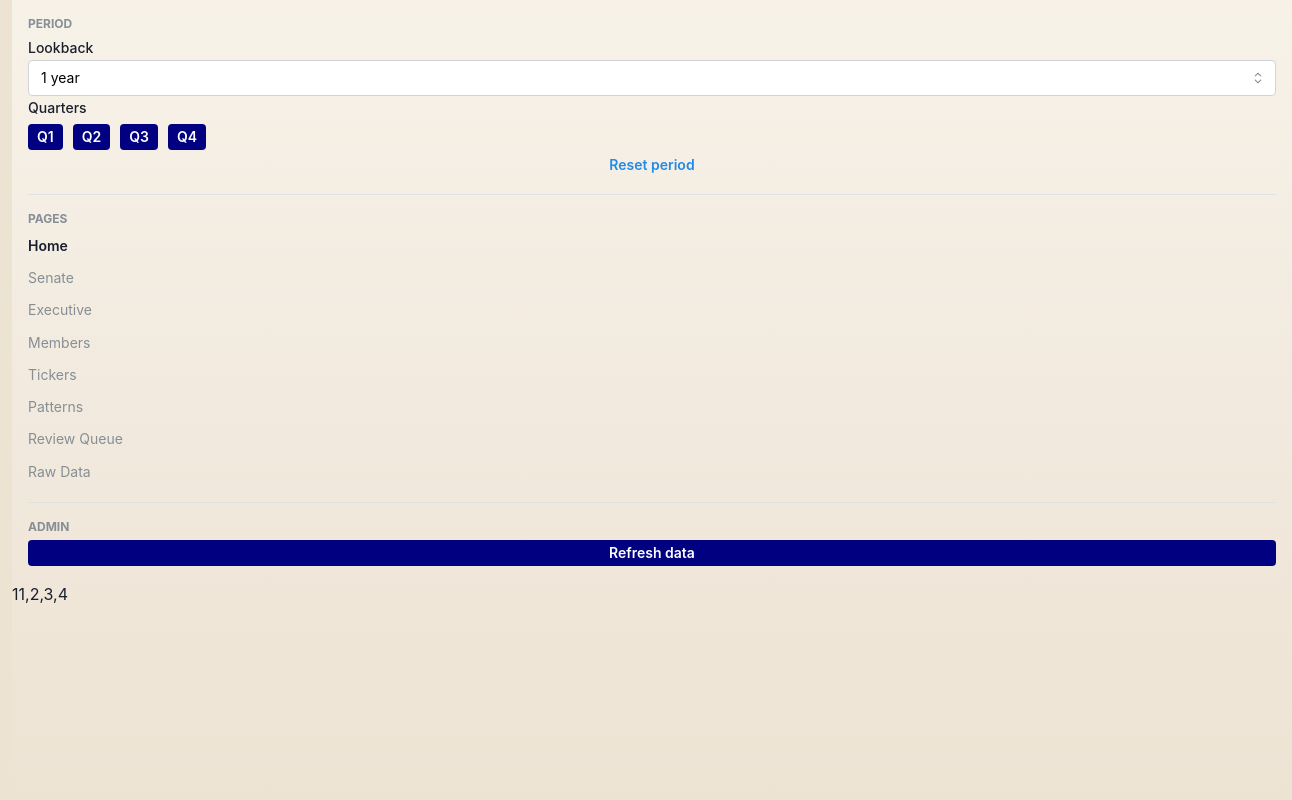
it: SidebarFilters › toggling a quarter updates the context
Click the button with test id "sidebar-quarter-2". click: [92, 137]
box: [73, 124, 110, 150]
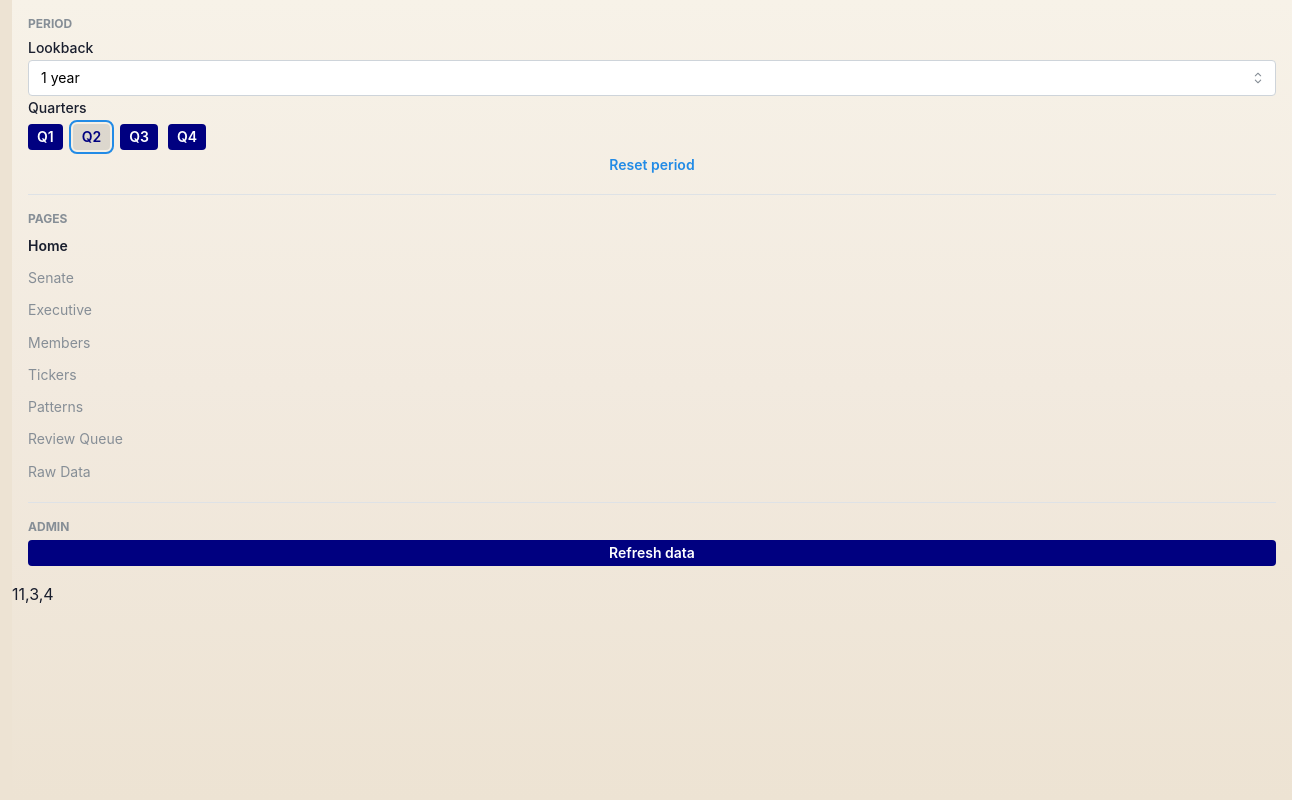
Result: the text with test id "probe-quarters" reads "1,3,4" at [18, 584, 54, 604]
